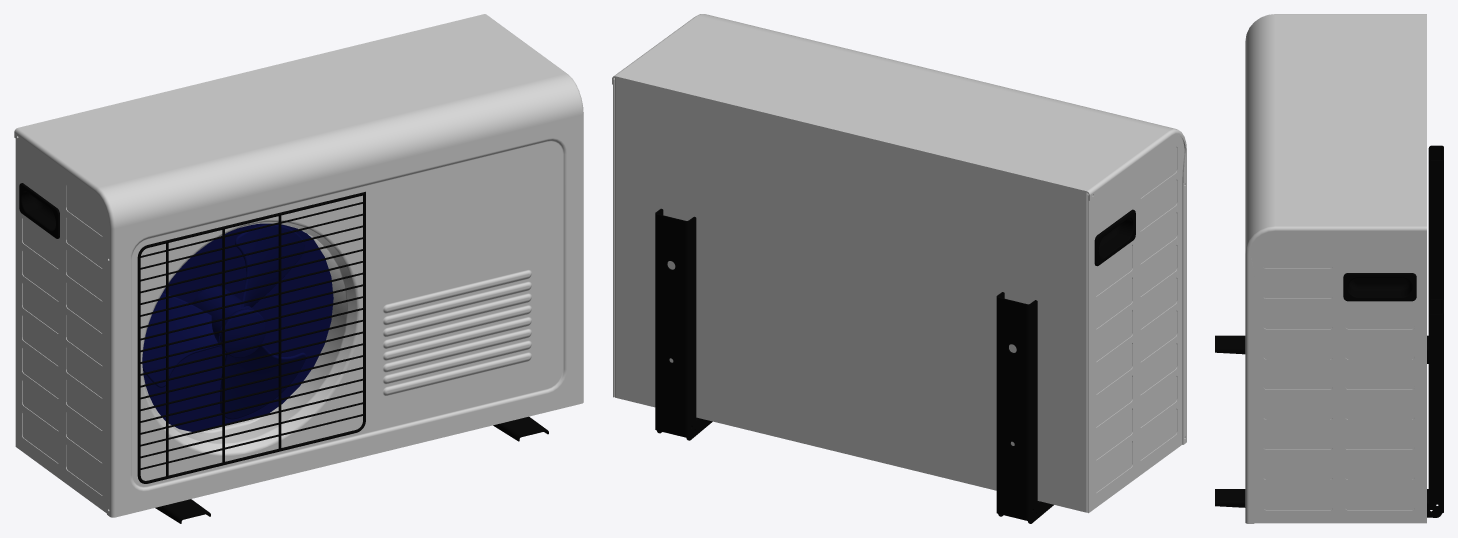
Rendered from air-conditioner.glb.
3 renders of one model, left to right at view 1: azimuth 30°, elevation 25°; view 2: azimuth 150°, elevation 25°; view 3: azimuth 270°, elevation 25°, orthographic. The views are drawn at different scales.
Visible parts, largest first — view 1: Object_6, Object_8, Object_5, Object_3, Object_2, Object_4; view 2: Object_7, Object_6, Object_8, Object_2, Object_4; view 3: Object_8, Object_6, Object_2, Object_4.
Part boxes in pixels (x1,y1,x2,y2): Object_6: [14, 14, 583, 517]; Object_8: [15, 139, 109, 513]; Object_5: [142, 223, 333, 431]; Object_3: [137, 191, 365, 483]; Object_2: [155, 416, 548, 523]; Object_4: [19, 183, 59, 238]; Object_7: [615, 77, 1088, 512]; Object_6: [612, 14, 1186, 444]; Object_8: [613, 78, 1184, 513]; Object_2: [655, 208, 1053, 523]; Object_4: [1094, 209, 1135, 266]; Object_8: [1250, 232, 1426, 523]; Object_6: [1245, 14, 1426, 523]; Object_2: [1215, 145, 1443, 517]; Object_4: [1343, 273, 1416, 301].
Size of the model in its own units: 844 by 572 by 378.
